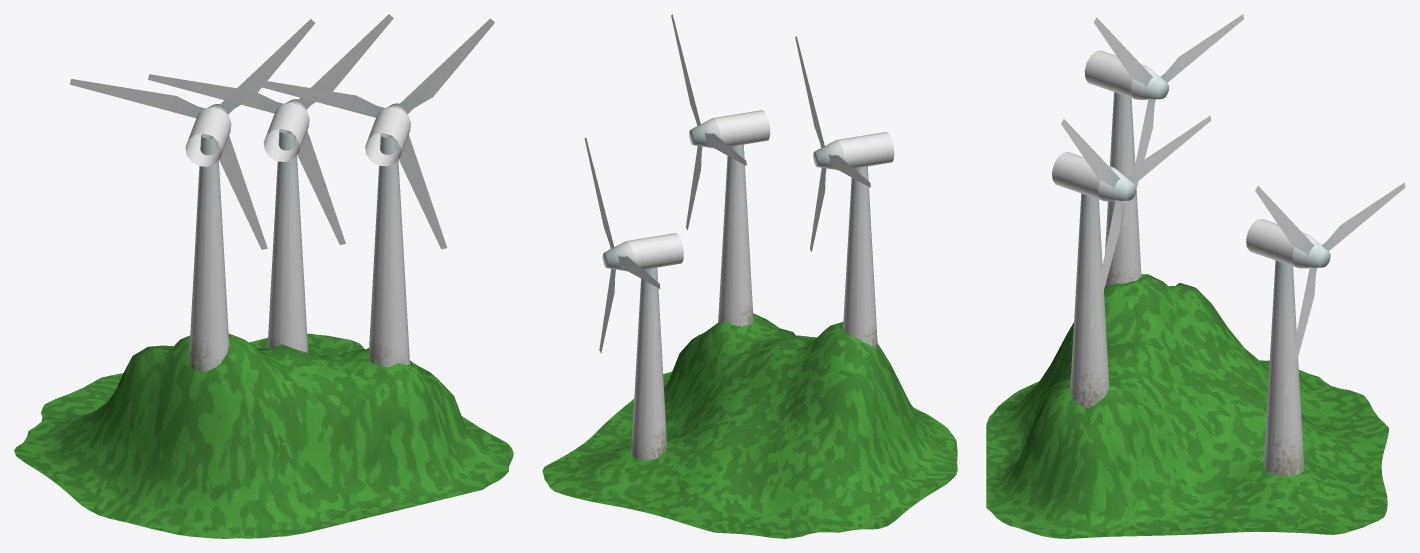
File: WindFarm.fbx
3 renders of one model, left to right at view 1: azimuth 30°, elevation 25°; view 2: azimuth 150°, elevation 25°; view 3: azimuth 270°, elevation 25°, orthographic. The views are drawn at different scales.
Visible parts, largest first — view 1: pPlane2, polySurface008, polySurface007, polySurface6; view 2: pPlane2, polySurface6, polySurface007, polySurface008; view 3: pPlane2, polySurface6, polySurface007, polySurface008.
Boxes of the visible parts, x1,y1,x2,y2 form: pPlane2: (14, 333, 513, 538); polySurface008: (70, 19, 315, 373); polySurface007: (262, 18, 494, 367); polySurface6: (148, 14, 393, 352); pPlane2: (542, 313, 957, 538); polySurface6: (584, 137, 683, 460); polySurface007: (671, 14, 770, 326); polySurface008: (795, 36, 894, 348); pPlane2: (986, 274, 1389, 538); polySurface6: (1246, 182, 1405, 476); polySurface007: (1052, 115, 1211, 408); polySurface008: (1084, 14, 1243, 286).
Size of the model in its own units: 78.86 by 89.83 by 77.99.
